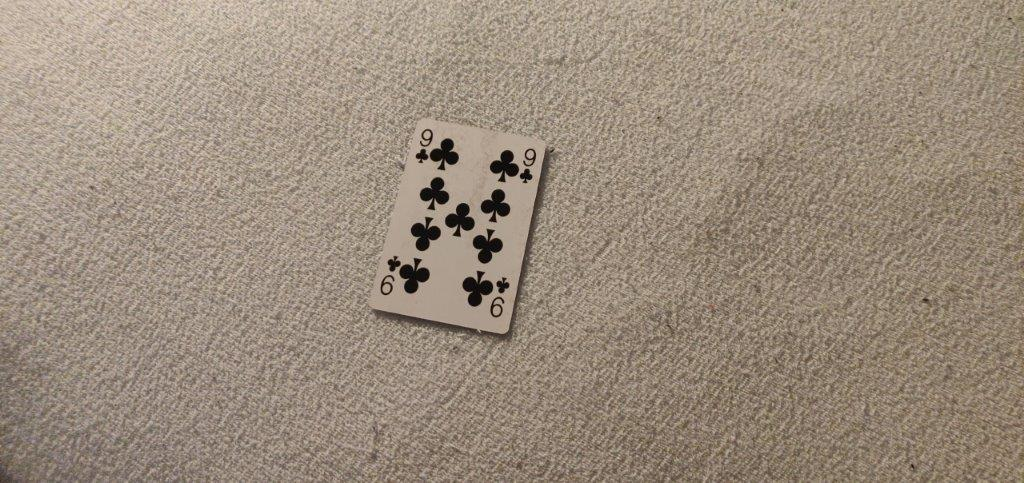9C: (517, 147, 538, 186), (414, 127, 434, 164)
